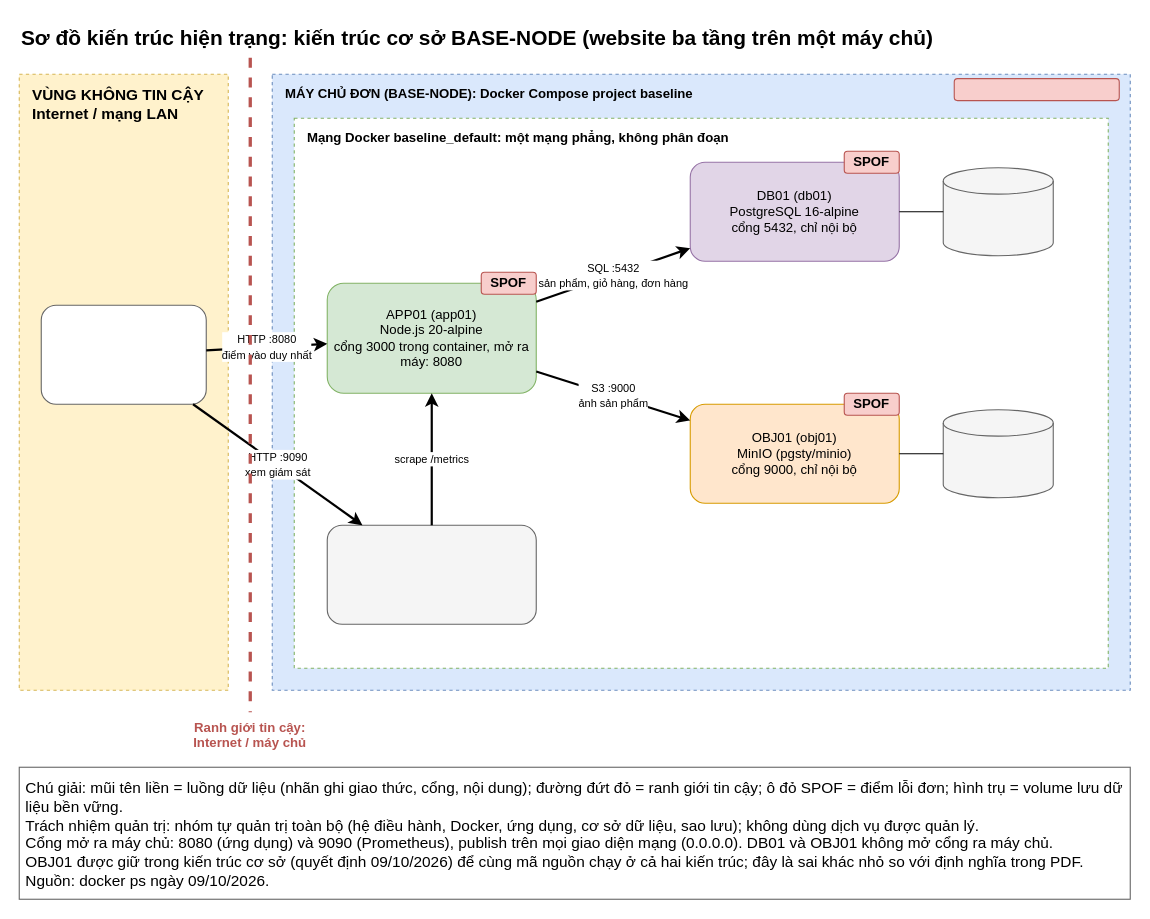
This 1150x919 diagram has some shape labels left out. Here are the shapes that lost their labels. From the top down, the centre of each, then its label:
point (1036, 89): SPOF: một máy chủ
point (997, 211): volume dbdata
point (123, 354): Người dùng trình duyệt, công cụ tạo tải k6 (LOADGEN)
point (997, 453): volume objdata
point (431, 574): MON01 (prometheus) Prometheus v2.52.0 mở ra máy: 9090
